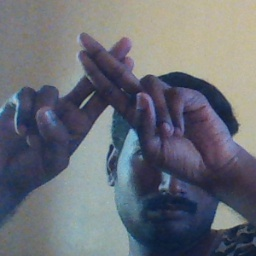F: (33, 30, 192, 147)
